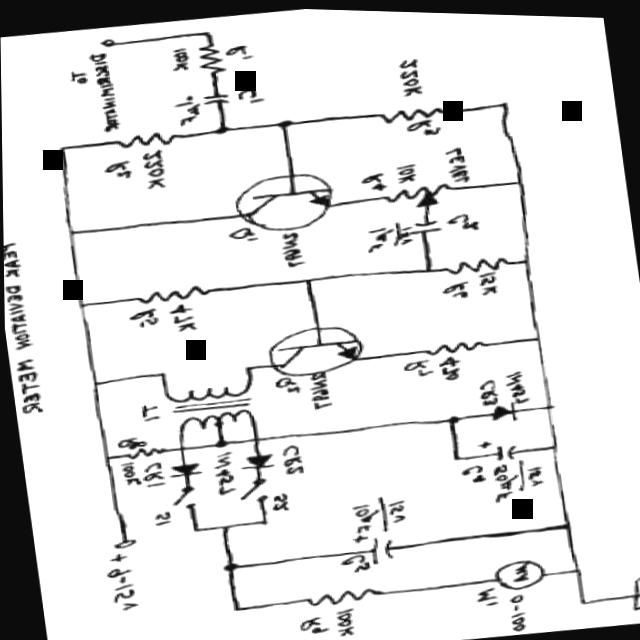capacitor: (362, 529, 401, 563), (398, 210, 444, 236), (482, 433, 521, 462), (190, 85, 232, 110)
diode: (234, 446, 282, 474), (478, 398, 522, 426), (155, 455, 198, 479)
ground: (612, 559, 640, 614)
inductor: (143, 371, 263, 420), (150, 389, 266, 436)
node: (203, 434, 233, 450), (267, 115, 296, 131), (209, 557, 238, 573), (202, 122, 231, 135), (439, 411, 460, 422)
resistor: (365, 174, 458, 216), (123, 273, 225, 311), (406, 324, 494, 365), (357, 93, 449, 132), (290, 577, 387, 612), (102, 120, 180, 157), (440, 246, 512, 282), (185, 35, 232, 79), (111, 439, 170, 463)
switch: (148, 479, 206, 516), (233, 473, 272, 507)
transistor: (215, 159, 342, 243), (250, 315, 374, 386)
